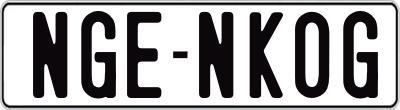0: (294, 11, 328, 102)
E: (127, 10, 161, 96)
G: (341, 11, 382, 104), (81, 10, 119, 102)
K: (250, 10, 289, 101)
N: (197, 12, 234, 103), (30, 9, 69, 95)
